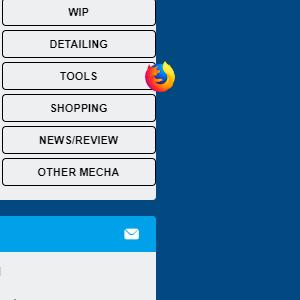firefox: (144, 60, 175, 92)
